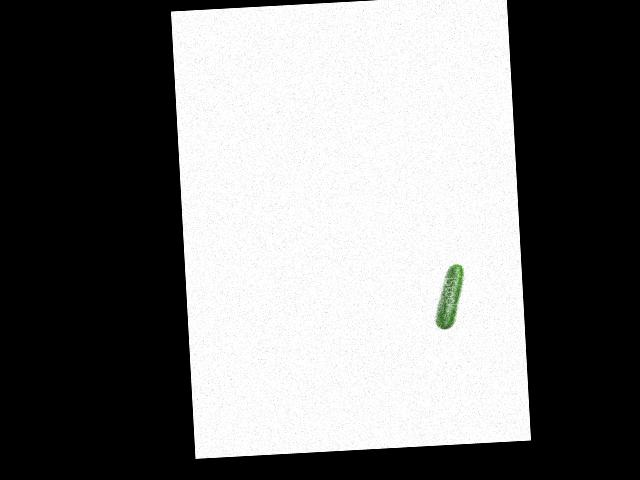cucumber: (432, 264, 466, 330)
